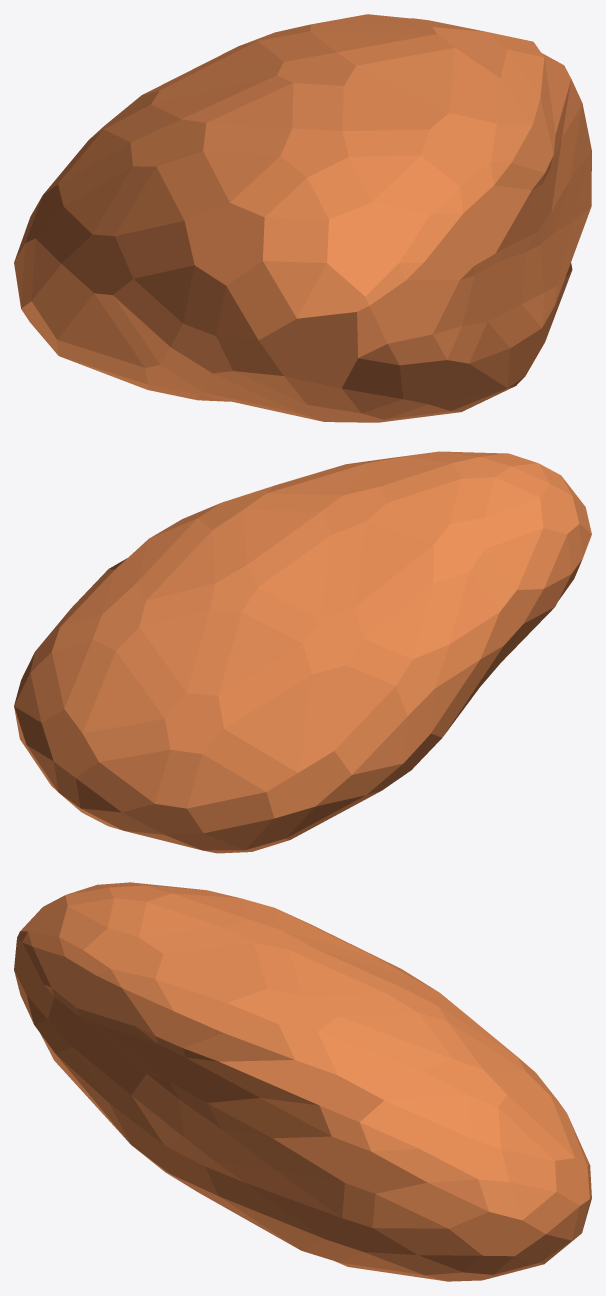
The model's file is Desert_Rock1.fbx.
The picture shows the model from 3 angles, top to bottom: view 1: azimuth 30°, elevation 25°; view 2: azimuth 150°, elevation 25°; view 3: azimuth 270°, elevation 25°; orthographic projection. The views are drawn at different scales.
Visible parts, largest first — view 1: Icosphere.001; view 2: Icosphere.001; view 3: Icosphere.001.
Part boxes in pixels (x1=…): Icosphere.001: x1=14, y1=14, x2=591, y2=422; Icosphere.001: x1=14, y1=451, x2=591, y2=853; Icosphere.001: x1=14, y1=882, x2=591, y2=1281.
Size of the model in its own units: 137 by 96.02 by 170.
